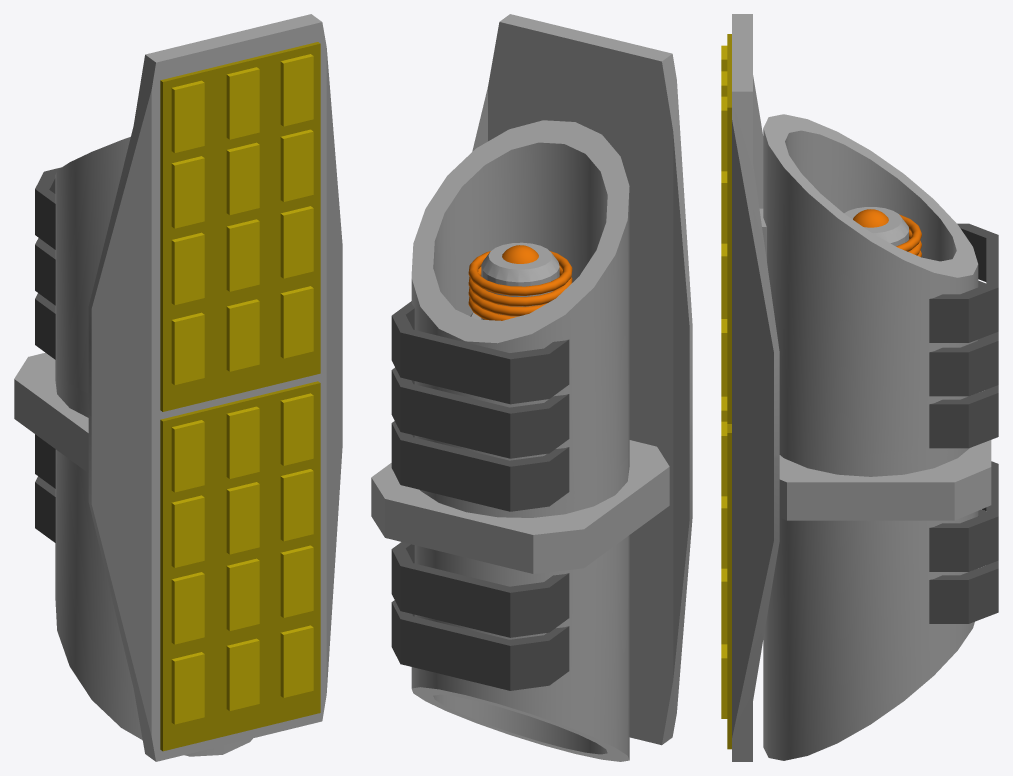
The model's file is BossGenerator.fbx.
3 views of the same model, side by side, from view 1: azimuth 30°, elevation 25°; view 2: azimuth 150°, elevation 25°; view 3: azimuth 270°, elevation 25° (orthographic). The views are drawn at different scales.
Visible parts, largest first — view 1: pCube25, pCube28, pCube42, pCube41, pPipe3, pPipe2, pCube5, pCube31, pCube48, pCube44, pCube34, pCube32 (+24 smaller); view 2: pPipe2, pCube25, pPipe3, pCube41, pCube5, pCube16, pCube56, pCube15, pCube14, pCube55, pCylinder2, pTorus10 (+3 smaller); view 3: pPipe2, pPipe3, pCube25, pCube41, pCube5, pCube16, pCube56, pCube15, pCube14, pCube55, pCube28, pCube42 (+10 smaller).
Part boxes in pixels (x1,y1,x2,y2): pCube25: (88, 14, 342, 423); pCube28: (160, 42, 320, 411); pCube42: (160, 381, 320, 751); pCube41: (88, 336, 342, 761); pPipe3: (55, 378, 252, 756); pPipe2: (55, 136, 130, 407); pCube5: (14, 352, 88, 472); pCube31: (280, 54, 313, 126); pCube48: (171, 572, 204, 644); pCube44: (171, 652, 204, 724); pCube34: (171, 156, 204, 228); pCube32: (280, 129, 313, 201); pPipe2: (411, 120, 629, 517); pCube25: (472, 14, 692, 431); pPipe3: (411, 444, 629, 761); pCube41: (629, 386, 692, 745); pCube5: (371, 440, 669, 573); pCube16: (391, 301, 569, 404); pCube56: (391, 542, 569, 637); pCube15: (391, 367, 569, 458); pCube14: (391, 421, 569, 511); pCube55: (391, 600, 569, 690); pCylinder2: (481, 242, 559, 319); pTorus10: (468, 251, 572, 295); pPipe2: (763, 114, 978, 476); pPipe3: (763, 446, 978, 760); pCube25: (732, 14, 779, 456); pCube41: (732, 421, 779, 761); pCube5: (779, 440, 991, 520); pCube16: (929, 223, 998, 342); pCube56: (929, 461, 998, 571); pCube15: (929, 280, 998, 396); pCube14: (929, 336, 998, 448); pCube55: (929, 509, 998, 623); pCube28: (727, 34, 731, 423); pCube42: (727, 424, 731, 749).
Size of the model in its own units: 6.37 by 17.57 by 6.35.
